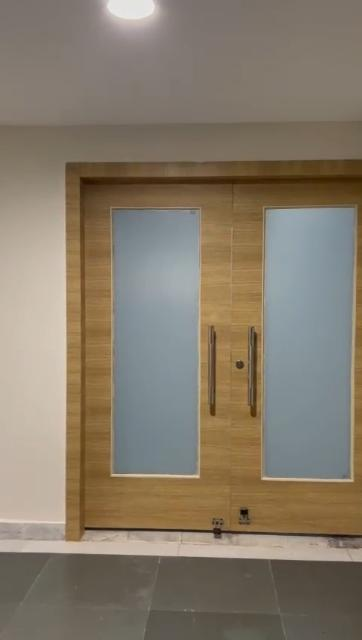door: (70, 166, 362, 528)
floor: (0, 546, 362, 640)
wall: (2, 128, 64, 524)
